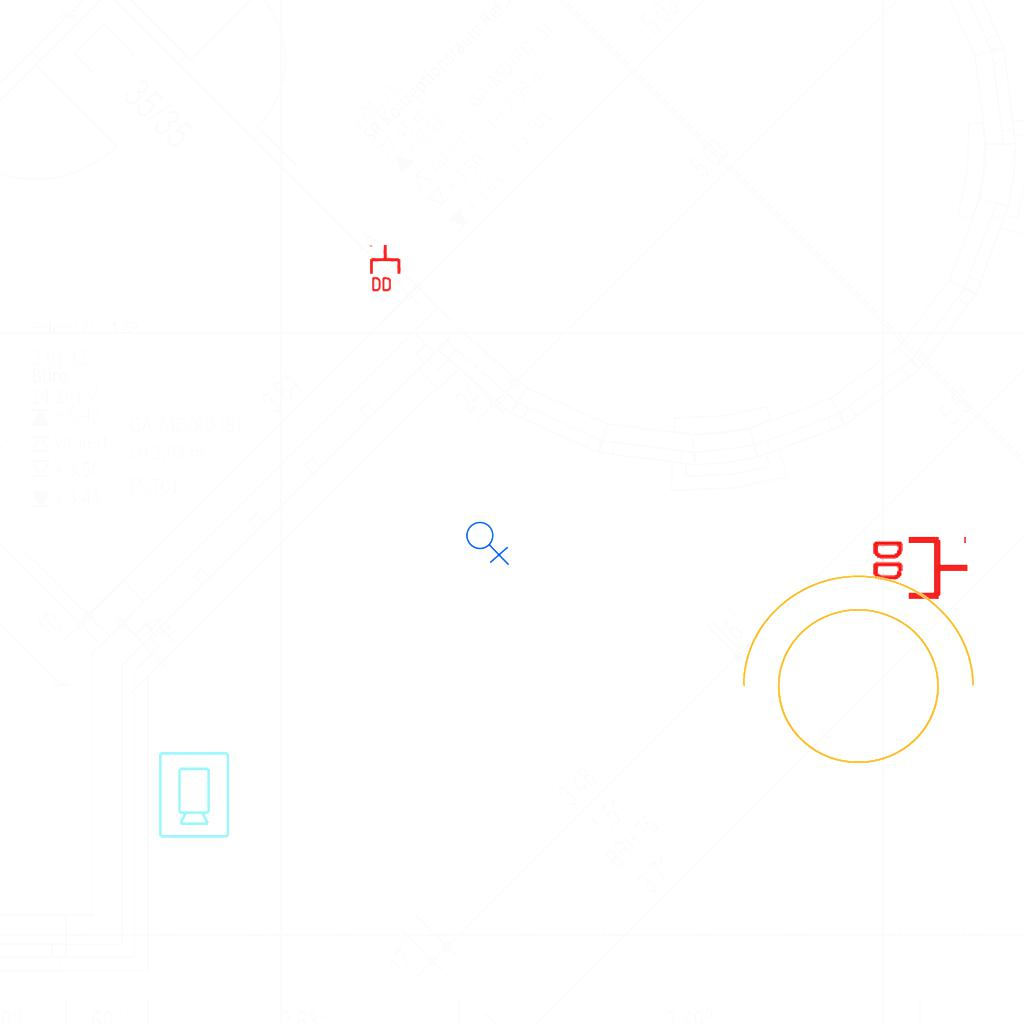Datenanschluss_zweifach: (868, 535, 971, 604), (369, 243, 403, 294)
Elektroanschluss_allgemein_230V_Geraeteanschlussdose_230V: (465, 517, 512, 566)
KFO_Kamera_mit_Festobjektiv: (155, 749, 232, 840)
Scheinwerfer_fuer_Alarmbeleuchtung: (720, 564, 984, 789)
